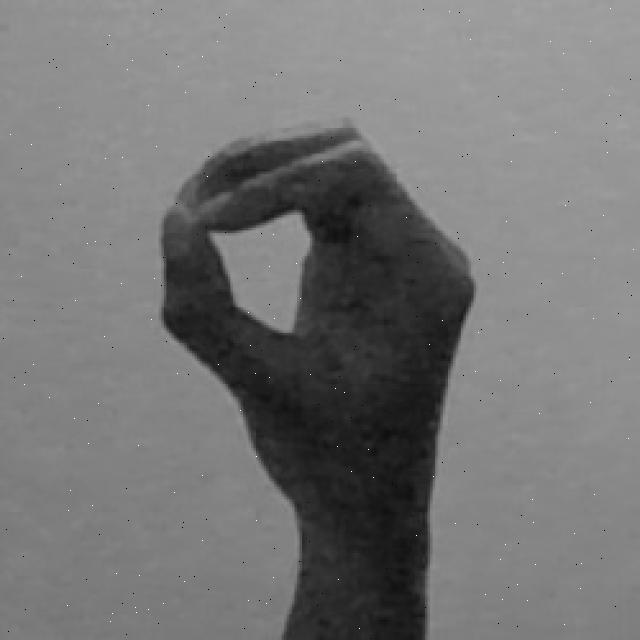O: (151, 106, 481, 640)
